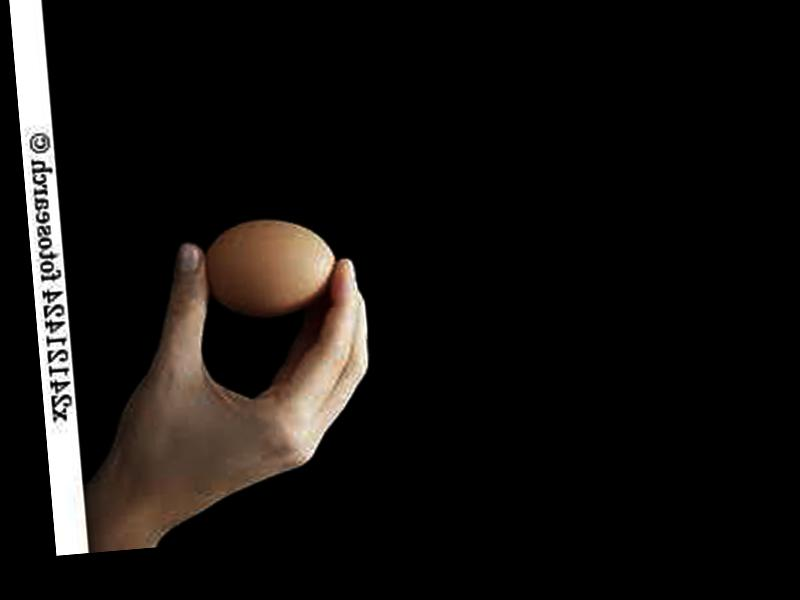Eggs: (201, 213, 343, 321)
